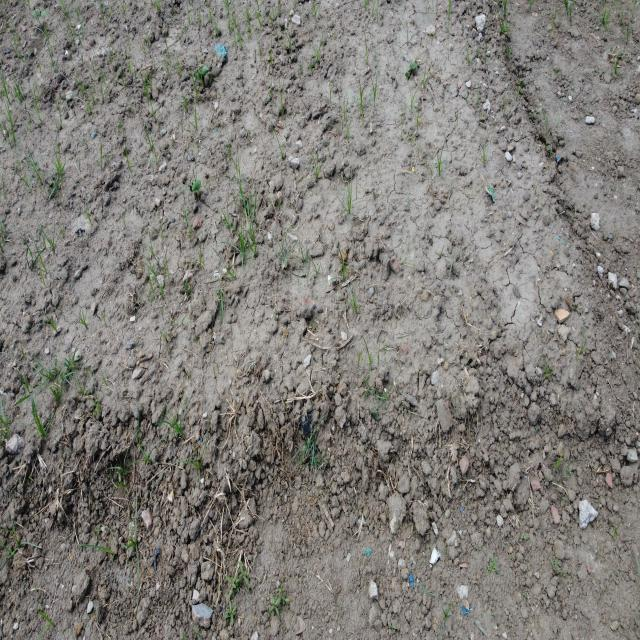seedling_s3: (41, 9, 49, 19), (202, 65, 209, 76), (195, 179, 201, 190), (32, 10, 37, 19), (192, 180, 196, 191), (411, 62, 417, 69), (36, 9, 41, 16)
